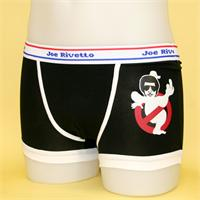mutande: (19, 40, 182, 170)
